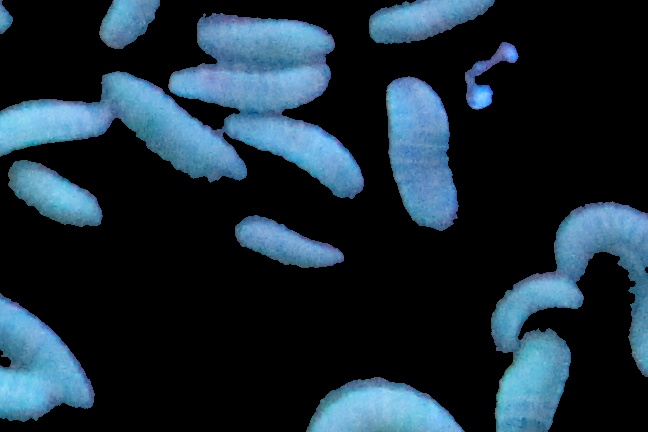larvae: (94, 72, 246, 196), (382, 72, 460, 230), (227, 110, 371, 194), (1, 293, 96, 400), (303, 379, 463, 432), (493, 334, 577, 432), (554, 188, 648, 274), (490, 268, 578, 352), (170, 66, 329, 112), (10, 160, 106, 236), (232, 215, 347, 270), (366, 1, 522, 40), (3, 92, 106, 149), (210, 20, 326, 68), (1, 364, 66, 424), (97, 1, 162, 48)
